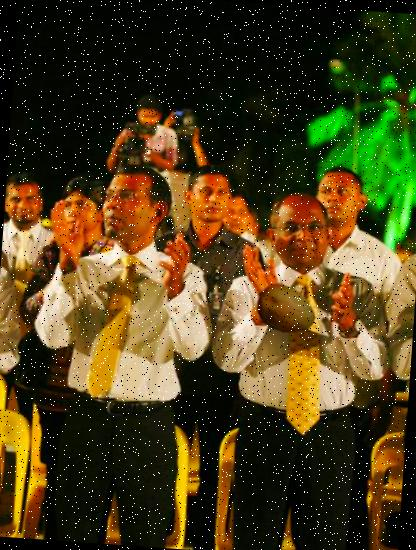Papaya: (253, 276, 318, 341)
